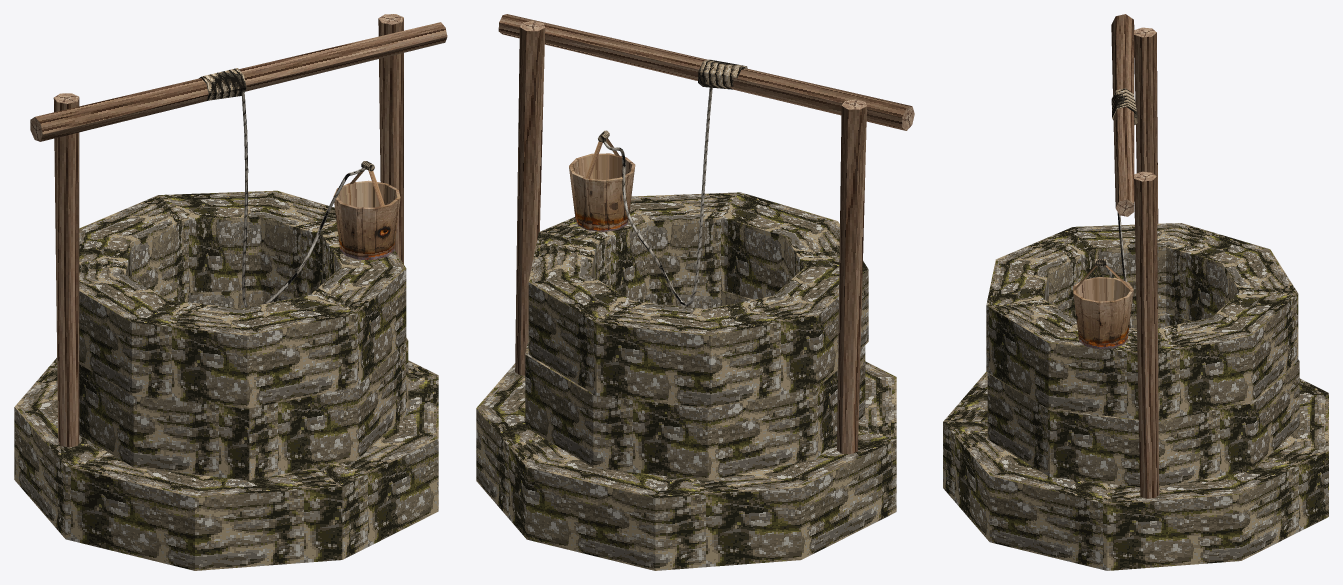
The model's file is well.glb.
3 views of the same model, side by side, from view 1: azimuth 30°, elevation 25°; view 2: azimuth 150°, elevation 25°; view 3: azimuth 270°, elevation 25° (orthographic). The views are drawn at different scales.
Visible parts, largest first — view 1: well-col; view 2: well-col; view 3: well-col.
Part boxes in pixels (<box>): well-col: <box>14,14,447,570</box>; well-col: <box>476,14,914,570</box>; well-col: <box>943,14,1328,570</box>.
Size of the model in its own units: 2.1 by 2.07 by 1.89.
5 materials, 5 textured.
